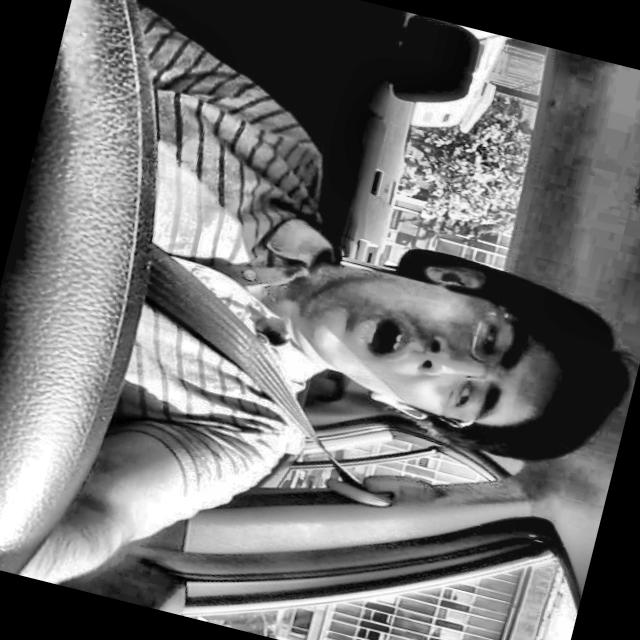open_eyes: (468, 309, 509, 363), (447, 377, 484, 425)
open_mouth: (344, 298, 420, 381)
